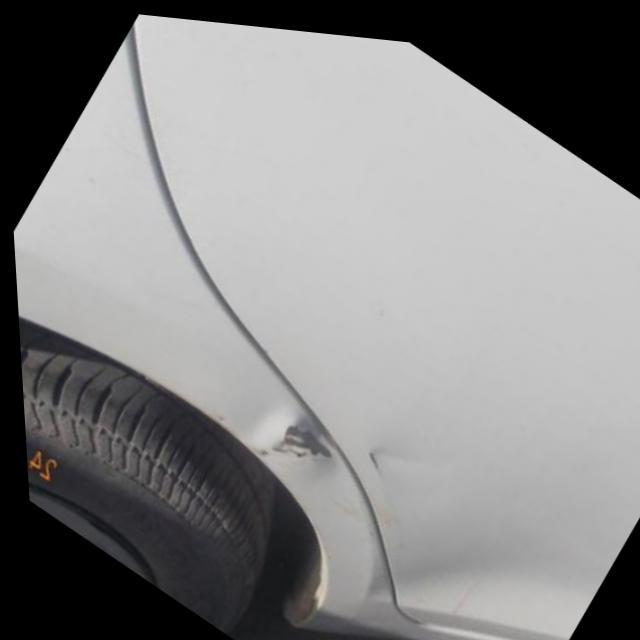scratch: (260, 415, 322, 451)
